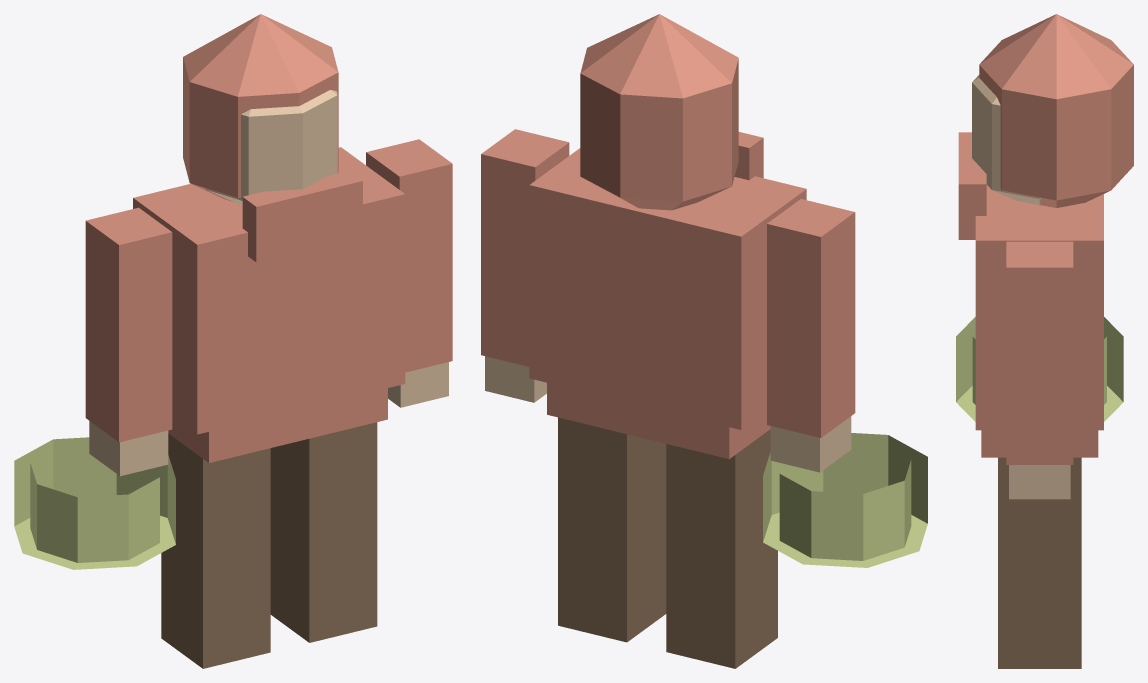
File: npc_petani_wanita.glb
3 views of the same model, side by side, from view 1: azimuth 30°, elevation 25°; view 2: azimuth 150°, elevation 25°; view 3: azimuth 270°, elevation 25° (orthographic).
Parts seen in each view (by area): view 1: npc_petani_wanita; view 2: npc_petani_wanita; view 3: npc_petani_wanita.
Part boxes in pixels (<box>): npc_petani_wanita: <box>14,14,452,668</box>; npc_petani_wanita: <box>481,14,927,668</box>; npc_petani_wanita: <box>956,14,1133,668</box>.
Bounding box in the file's own units: 1.71 × 2.42 × 0.6371.
